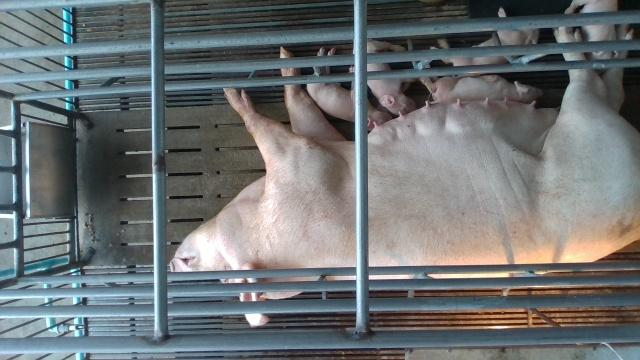piglet: (305, 46, 393, 132), (432, 7, 541, 67), (353, 38, 416, 117), (418, 76, 545, 106), (566, 0, 620, 58)
sow-sleep-lactate: (170, 25, 640, 328)
